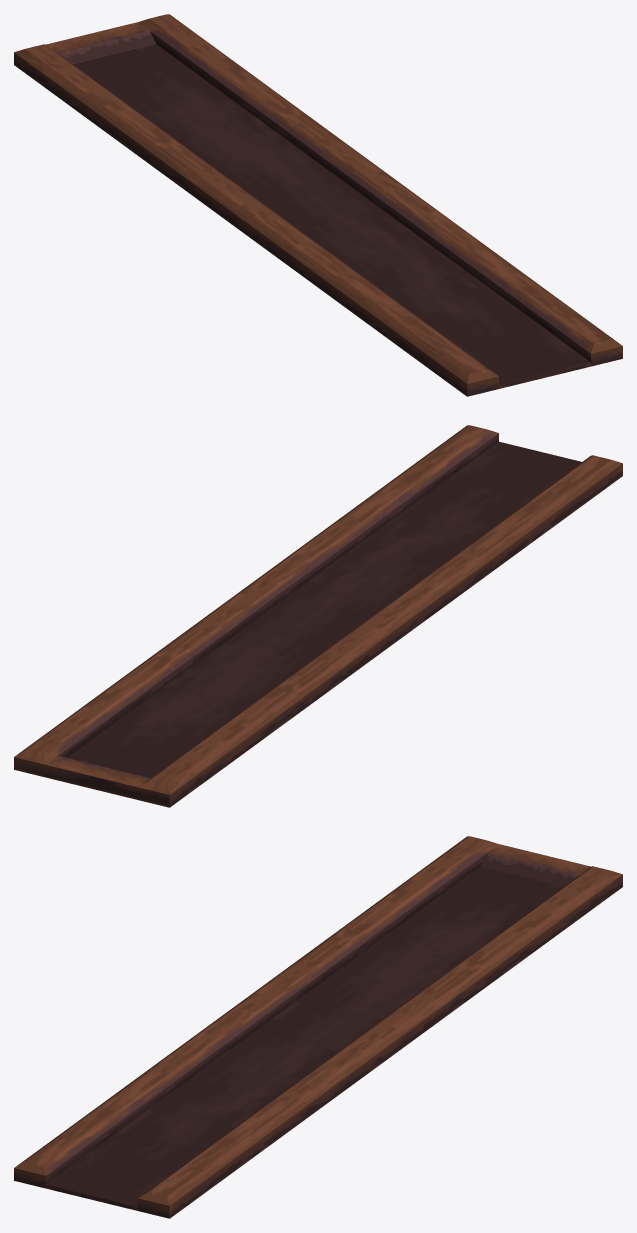
File: Trough.fbx
3 renders of one model, top to bottom at view 1: azimuth 30°, elevation 25°; view 2: azimuth 150°, elevation 25°; view 3: azimuth 330°, elevation 25°, orthographic.
Visible parts, largest first — view 1: Trough; view 2: Trough; view 3: Trough.
Part boxes in pixels (x1,y1,x2,y2): Trough: (14,14,622,396); Trough: (14,425,622,807); Trough: (14,836,622,1218).
Bounding box in the file's own units: 977 × 107 × 4924.
